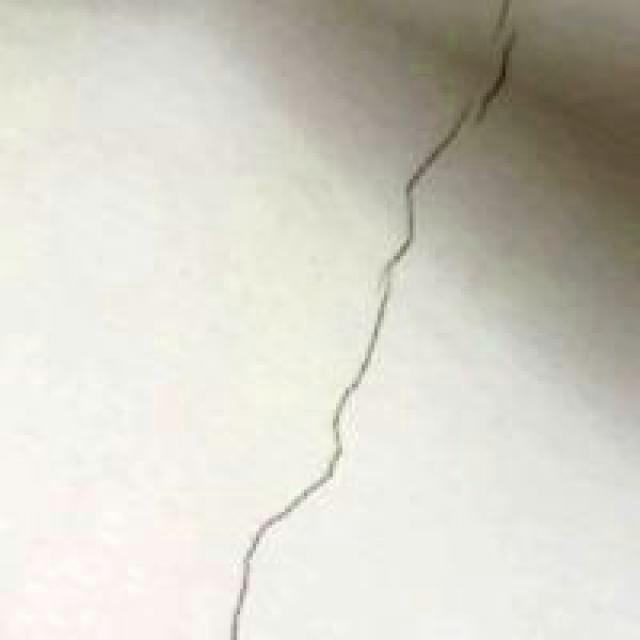SurfaceCrack: (210, 0, 540, 640)
